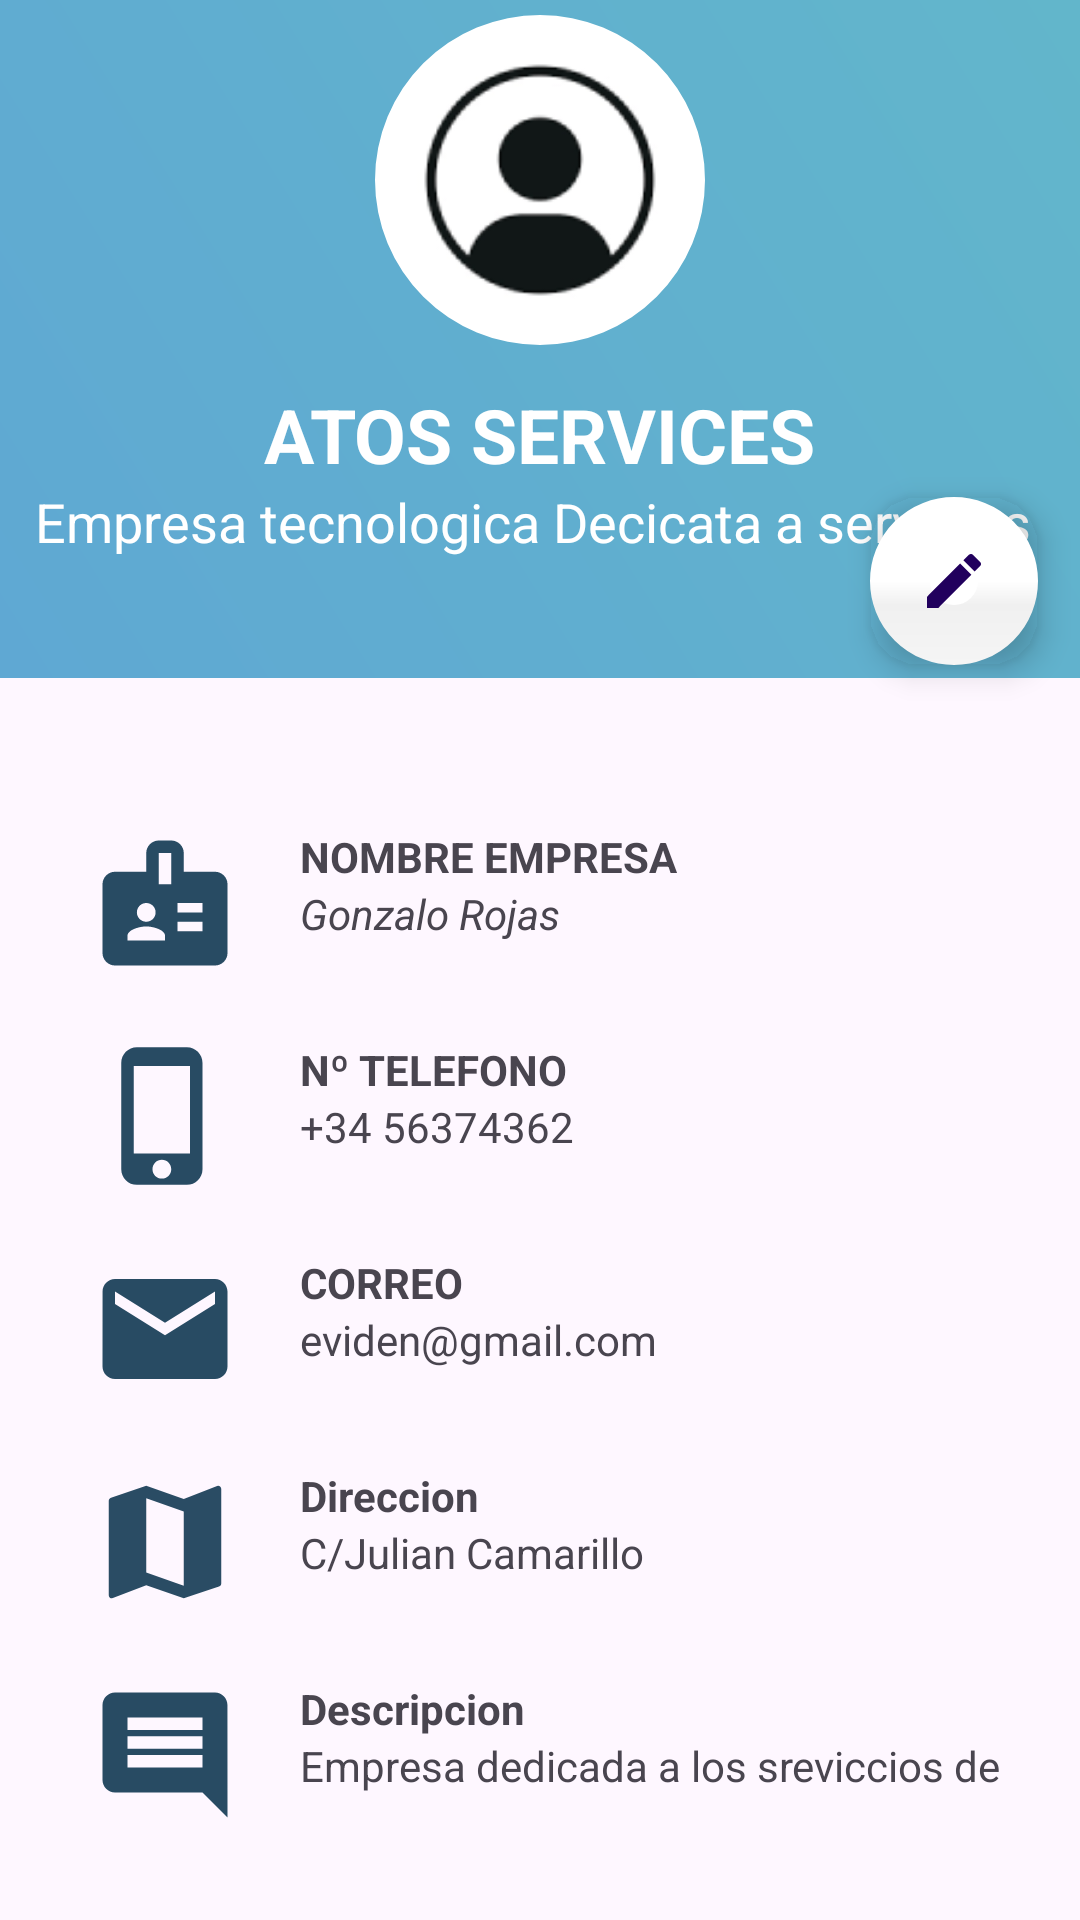

Screen size 1080*1920. Icon name, then its center in pixels as [x,y]:
badget: [165,903]
dialog: [165,1755]
edit: [954,581]
email: [165,1329]
map: [165,1542]
phone: [162,1116]
profile pic user: [540,180]
